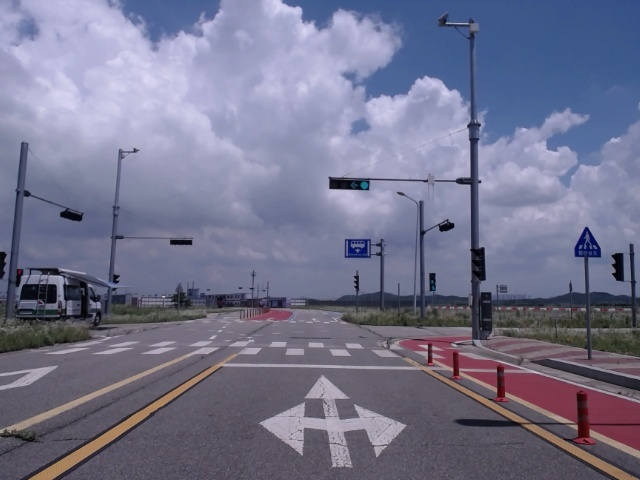all_green_4: (327, 180, 372, 190)
